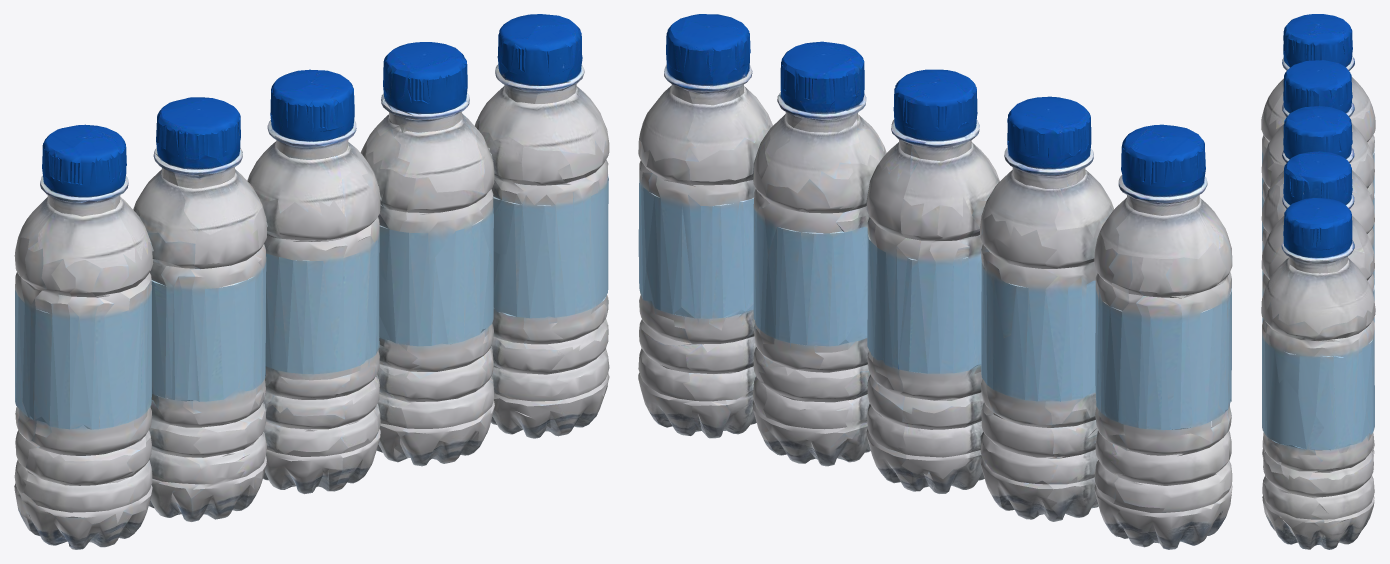
File: e4water.glb
The picture shows the model from 3 angles, left to right: view 1: azimuth 30°, elevation 25°; view 2: azimuth 150°, elevation 25°; view 3: azimuth 270°, elevation 25°; orthographic projection. The views are drawn at different scales.
Visible parts, largest first — view 1: output_unwrapped; view 2: output_unwrapped; view 3: output_unwrapped.
Boxes of the visible parts, left/top/right/bottom form: output_unwrapped: left=14, top=14, right=609, bottom=549; output_unwrapped: left=638, top=14, right=1232, bottom=549; output_unwrapped: left=1261, top=14, right=1375, bottom=549.
Size of the model in its own units: 0.2456 by 0.16 by 0.051.
Materials: 1 (1 with a texture image).
